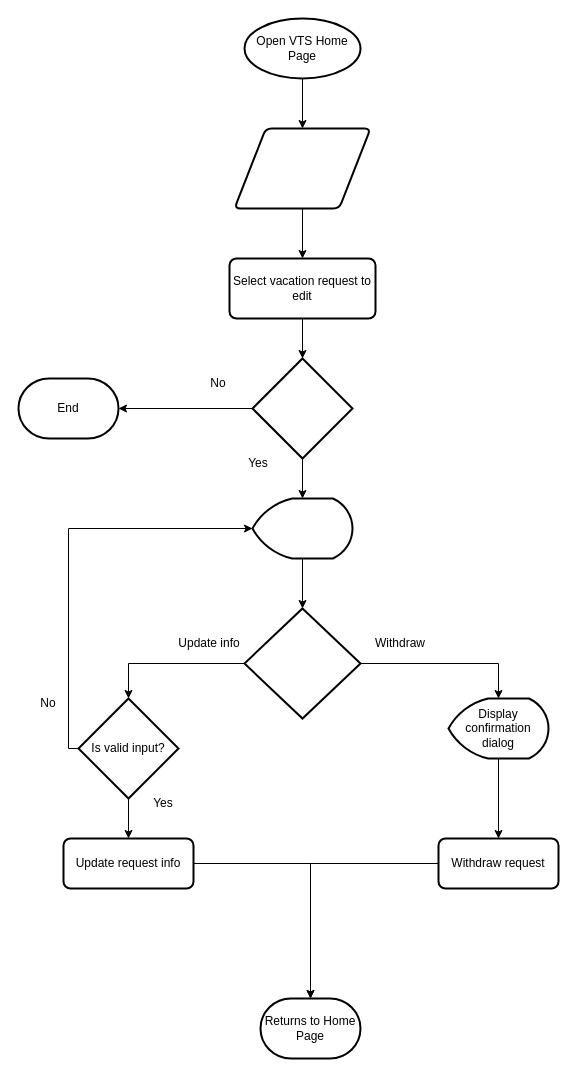
This 576x1076 diagram has some shape labels left out. Each missing label, with the centre of its shape:
Display edit form: the point at 302,528
Employee action type: the point at 302,663
Is pending request ?: the point at 302,408
Load employee's vacation requets: the point at 302,168
